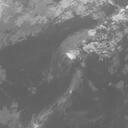cyclone: (43, 38, 101, 86)
